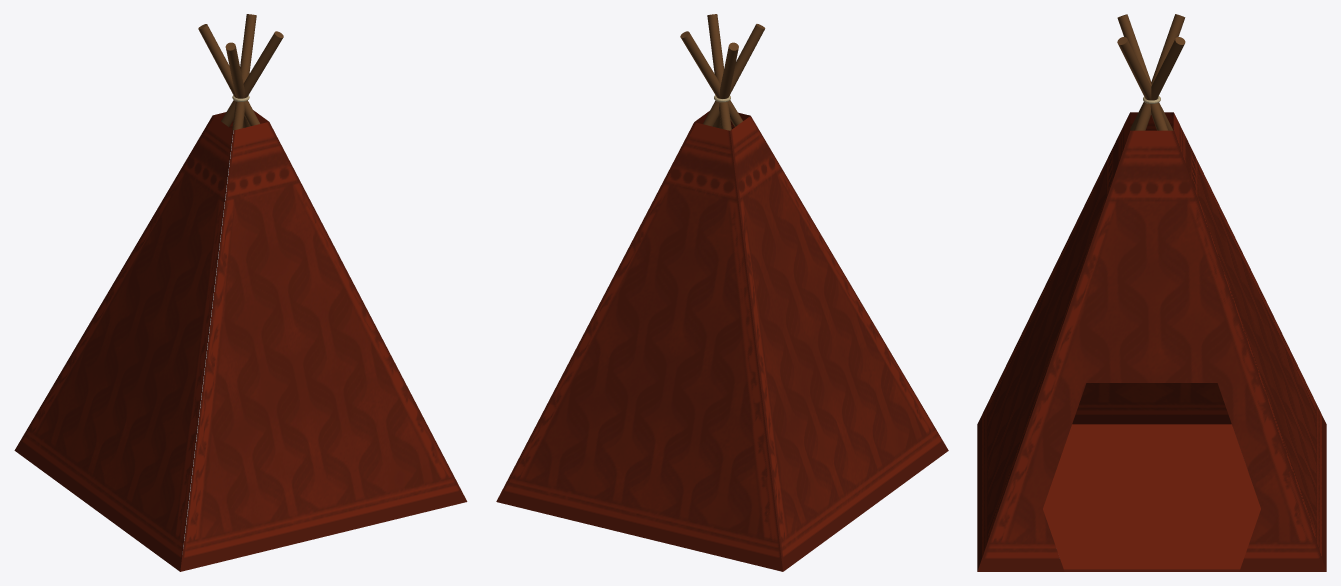
Rendered from Tent.glb.
3 renders of one model, left to right at view 1: azimuth 30°, elevation 25°; view 2: azimuth 150°, elevation 25°; view 3: azimuth 270°, elevation 25°, orthographic. The views are drawn at different scales.
Parts seen in each view (by area): view 1: Cube, Cylinder; view 2: Cube, Cylinder; view 3: Cube, Cylinder.
Part boxes in pixels (bbox=[...]): Cube: bbox=[14, 110, 467, 571]; Cylinder: bbox=[198, 14, 283, 130]; Cube: bbox=[496, 111, 948, 571]; Cylinder: bbox=[680, 14, 765, 130]; Cube: bbox=[977, 112, 1326, 571]; Cylinder: bbox=[1117, 14, 1185, 130].
Size of the model in its own units: 4.12 by 6.16 by 4.12.
3 materials, 1 textured.
